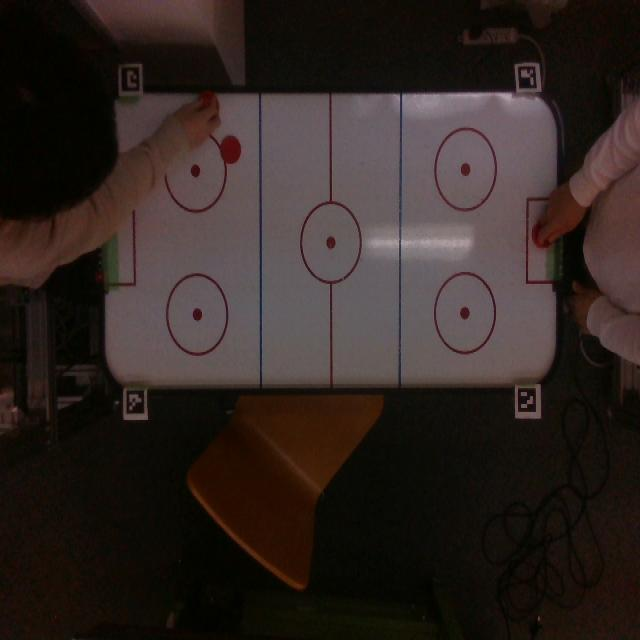puck: (220, 135, 241, 164)
